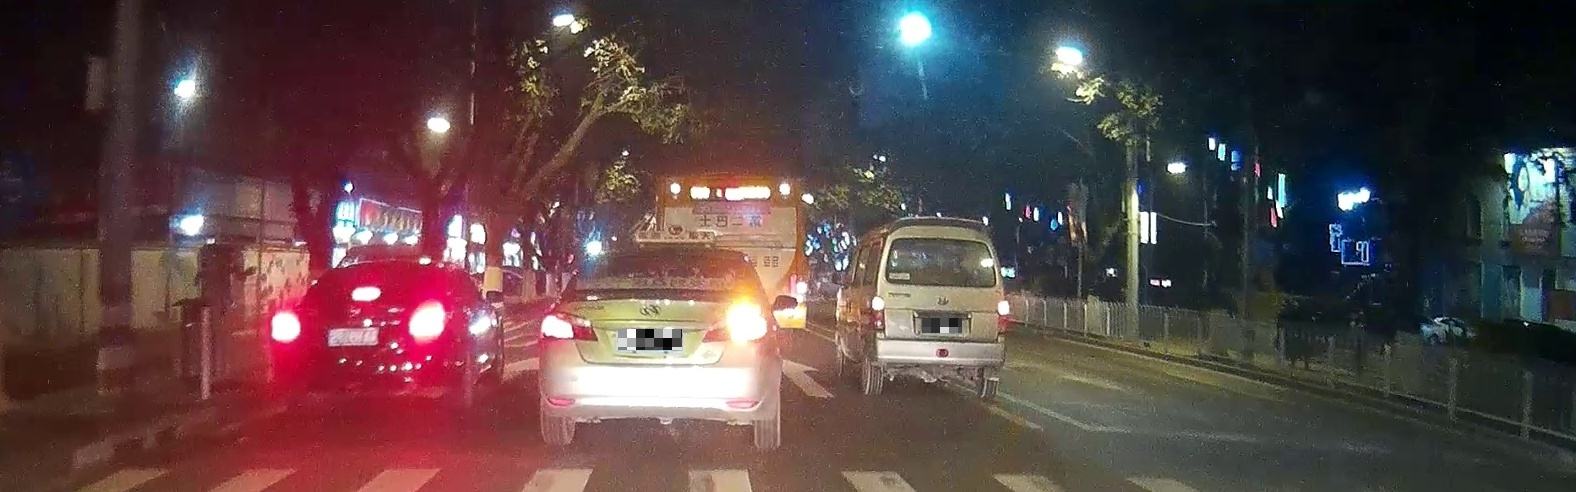L_light: (540, 309, 598, 341), (270, 310, 302, 344), (871, 295, 885, 330)
R_light: (703, 297, 770, 342), (407, 300, 447, 343), (997, 299, 1011, 335)
T_light: (351, 285, 383, 302), (643, 251, 683, 260), (931, 237, 962, 245)
night-brake: (266, 262, 462, 406)
night-no: (869, 216, 1011, 398)
night-right: (540, 246, 773, 447)
plate_1: (618, 329, 682, 350)
plate_2: (922, 318, 962, 333)
